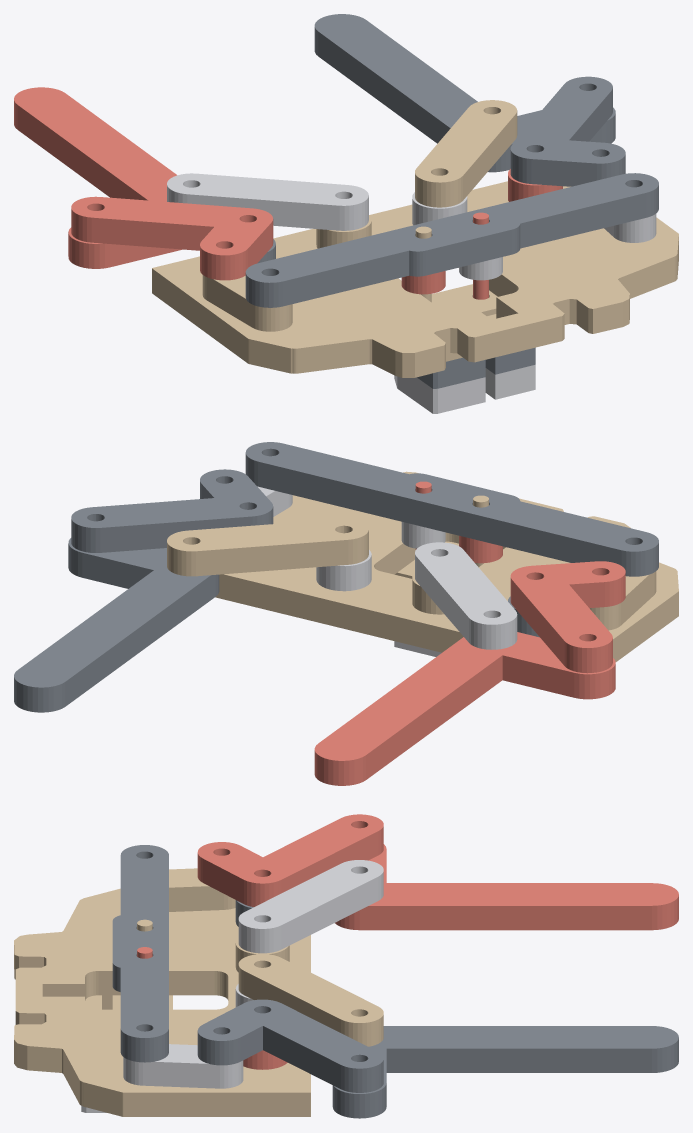
File: garra_aberta.glb
3 renders of one model, top to bottom at view 1: azimuth 30°, elevation 25°; view 2: azimuth 150°, elevation 25°; view 3: azimuth 270°, elevation 25°, orthographic. The views are drawn at different scales.
Visible parts, largest first — view 1: NB_base_nova_garra_A_0, NB_carro_T_novo_13, A_dedo_7, A_elo_externo_alavanca_11, A_dedo_1, A_elo_externo_alavanca_5, A_elo_interno_10, A_elo_interno_4, NB_bloco_embolo_(copia_outro_grupo)_18, A_biela_12, NB_bloco_embolo_(copia_outro_grupo)_17, NB_bloco_embolo_(copia_outro_grupo)_16 (+6 smaller); view 2: NB_carro_T_novo_13, NB_base_nova_garra_A_0, A_dedo_7, A_dedo_1, A_elo_interno_4, A_elo_externo_alavanca_11, A_elo_externo_alavanca_5, A_elo_interno_10, A_biela_12, A_espacador_2, NB_espacador_bloco_14, NB_espacador_bloco_15 (+1 smaller); view 3: NB_base_nova_garra_A_0, A_dedo_1, A_dedo_7, NB_carro_T_novo_13, A_elo_externo_alavanca_5, A_elo_externo_alavanca_11, A_elo_interno_10, A_elo_interno_4, A_biela_6, A_biela_12, A_espacador_3, NB_bloco_embolo_(copia_outro_grupo)_16.
Boxes of the visible parts, box(x1,y1,x2,y2) form: NB_base_nova_garra_A_0: box(152, 181, 678, 377); NB_carro_T_novo_13: box(245, 173, 658, 307); A_dedo_7: box(14, 87, 181, 268); A_elo_externo_alavanca_11: box(71, 196, 273, 280); A_dedo_1: box(314, 14, 615, 172); A_elo_externo_alavanca_5: box(510, 76, 625, 186); A_elo_interno_10: box(167, 173, 368, 230); A_elo_interno_4: box(415, 100, 517, 207); NB_bloco_embolo_(copia_outro_grupo)_18: box(394, 364, 535, 413); A_biela_12: box(202, 275, 292, 331); NB_bloco_embolo_(copia_outro_grupo)_17: box(417, 347, 535, 388); NB_bloco_embolo_(copia_outro_grupo)_16: box(431, 284, 497, 361); NB_carro_T_novo_13: box(245, 442, 658, 576); NB_base_nova_garra_A_0: box(215, 471, 678, 661); A_dedo_7: box(314, 632, 615, 785); A_dedo_1: box(14, 538, 219, 712); A_elo_interno_4: box(167, 519, 368, 576); A_elo_externo_alavanca_11: box(510, 561, 625, 673); A_elo_externo_alavanca_5: box(71, 469, 273, 552); A_elo_interno_10: box(415, 542, 517, 649); A_biela_12: box(589, 571, 656, 630); A_espacador_2: box(316, 550, 371, 591); NB_espacador_bloco_14: box(401, 522, 445, 548); NB_espacador_bloco_15: box(459, 535, 502, 563); NB_base_nova_garra_A_0: box(14, 888, 310, 1116); A_dedo_1: box(332, 1026, 678, 1118); A_dedo_7: box(335, 844, 678, 930); NB_carro_T_novo_13: box(112, 845, 168, 1062); A_elo_externo_alavanca_5: box(197, 999, 383, 1092); A_elo_externo_alavanca_11: box(197, 814, 383, 906); A_elo_interno_10: box(238, 860, 383, 953); A_elo_interno_4: box(238, 954, 383, 1046); A_biela_6: box(123, 1044, 243, 1088); A_biela_12: box(169, 868, 235, 911); A_espacador_3: box(243, 1050, 287, 1069); NB_bloco_embolo_(copia_outro_grupo)_16: box(85, 995, 172, 1009).
Bounding box in the file's own units: 0.1128 × 0.032 × 0.1236.
